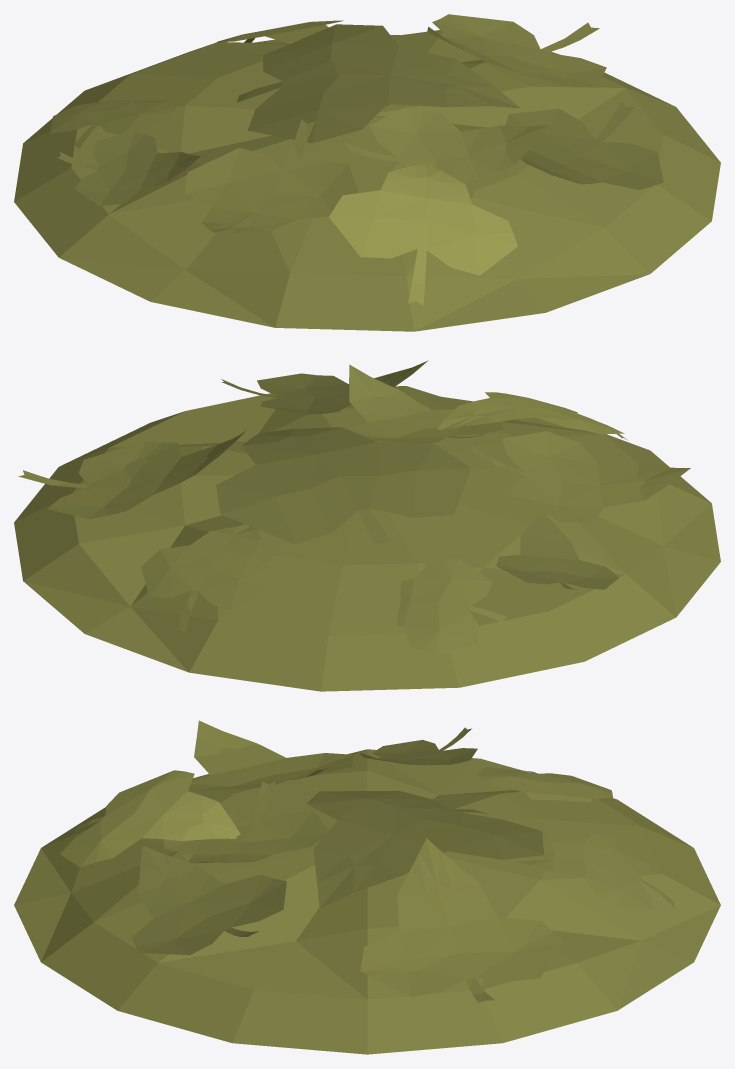
The model's file is SFHW_Leaves_003.fbx.
The picture shows the model from 3 angles, top to bottom: view 1: azimuth 30°, elevation 25°; view 2: azimuth 150°, elevation 25°; view 3: azimuth 270°, elevation 25°; orthographic projection.
Parts seen in each view (by area): view 1: SFHW_Leaves_003; view 2: SFHW_Leaves_003; view 3: SFHW_Leaves_003.
Boxes of the visible parts, x1,y1,x2,y2 form: SFHW_Leaves_003: [14, 14, 720, 331]; SFHW_Leaves_003: [14, 360, 720, 691]; SFHW_Leaves_003: [14, 720, 720, 1054].
Size of the model in its own units: 26.89 by 4.66 by 26.89.
